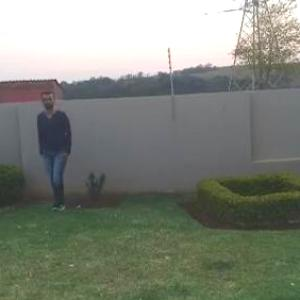follow: (29, 87, 82, 206)
